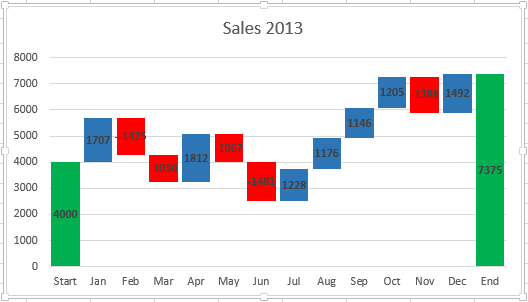OK_NoIssue: (9, 9, 521, 302)
